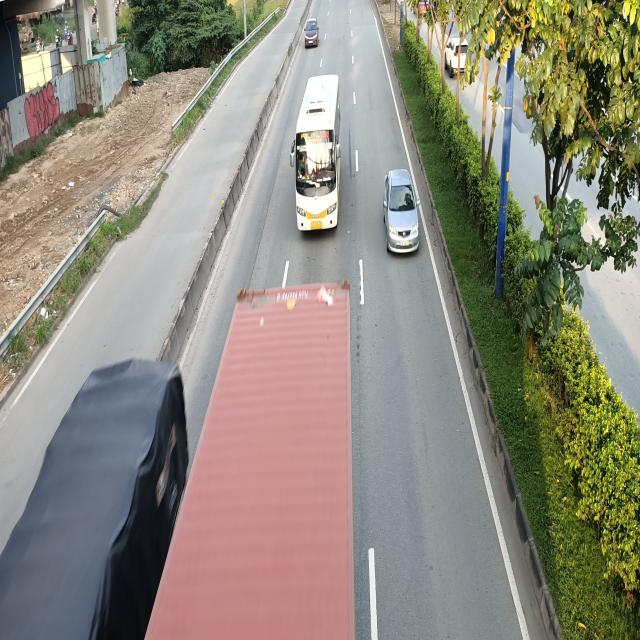car: (384, 170, 422, 254), (304, 20, 320, 48)
coach: (292, 76, 346, 233)
container: (146, 280, 352, 636)
